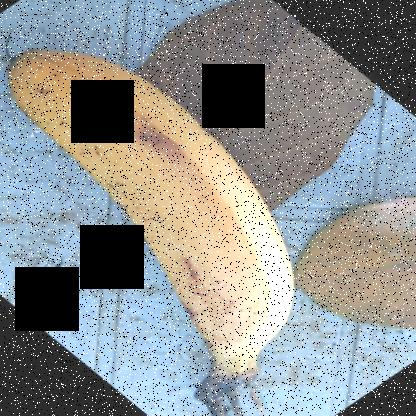ripe: (14, 36, 326, 394)
